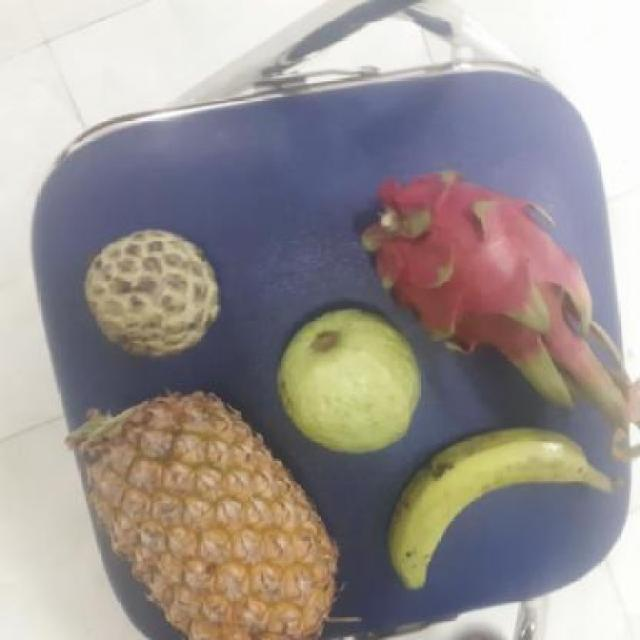dragon fruit: (364, 169, 588, 362)
guava: (278, 307, 427, 448)
pineapple: (83, 396, 342, 639)
sugar apple: (86, 231, 225, 355)
